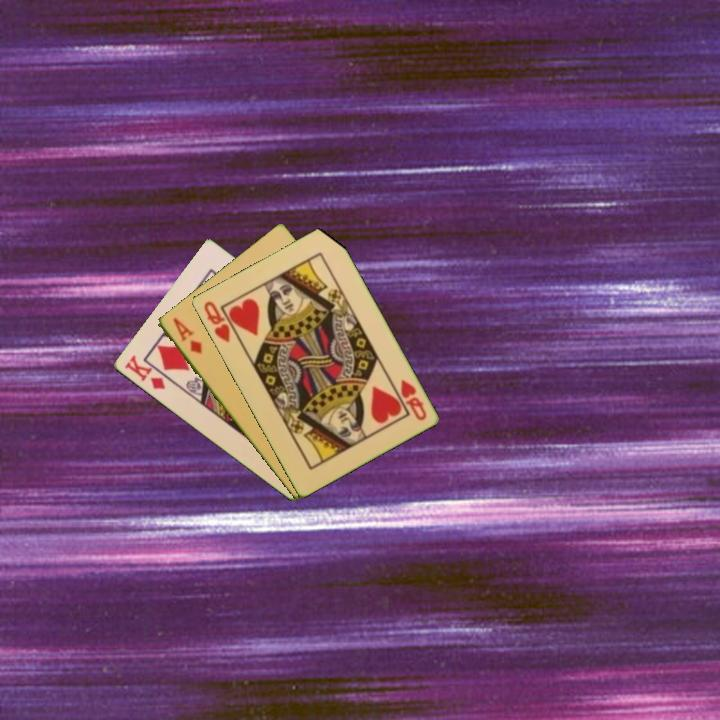Ad: (169, 314, 205, 357)
Kd: (120, 351, 168, 393)
Qh: (200, 297, 241, 345), (397, 376, 429, 424)
